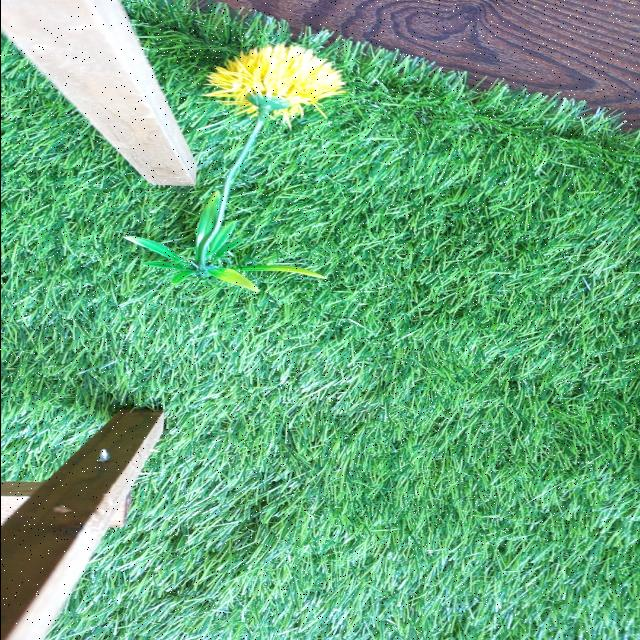base: (126, 192, 324, 292)
flower: (208, 46, 340, 120)
